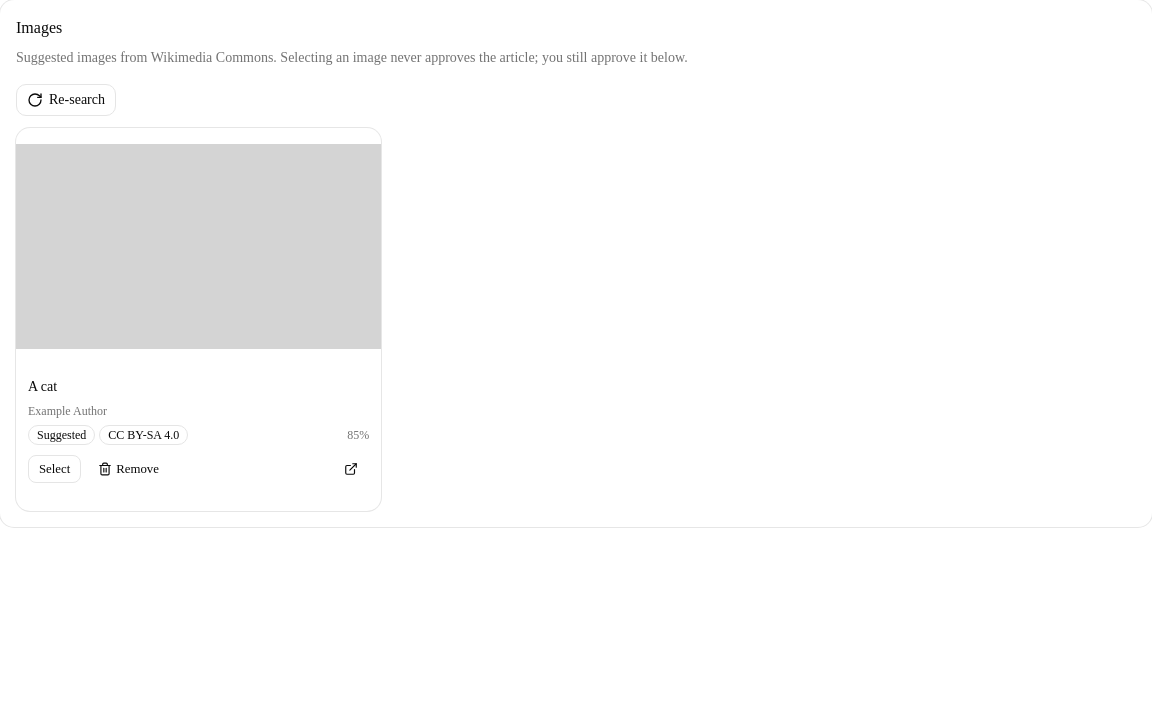
Test: ArticleImagesPanel actions › selects a suggested image and refetches
The width and height of the screenshot is (1152, 720).
Click the button "Select" at (55, 470), box [28,456,81,484]
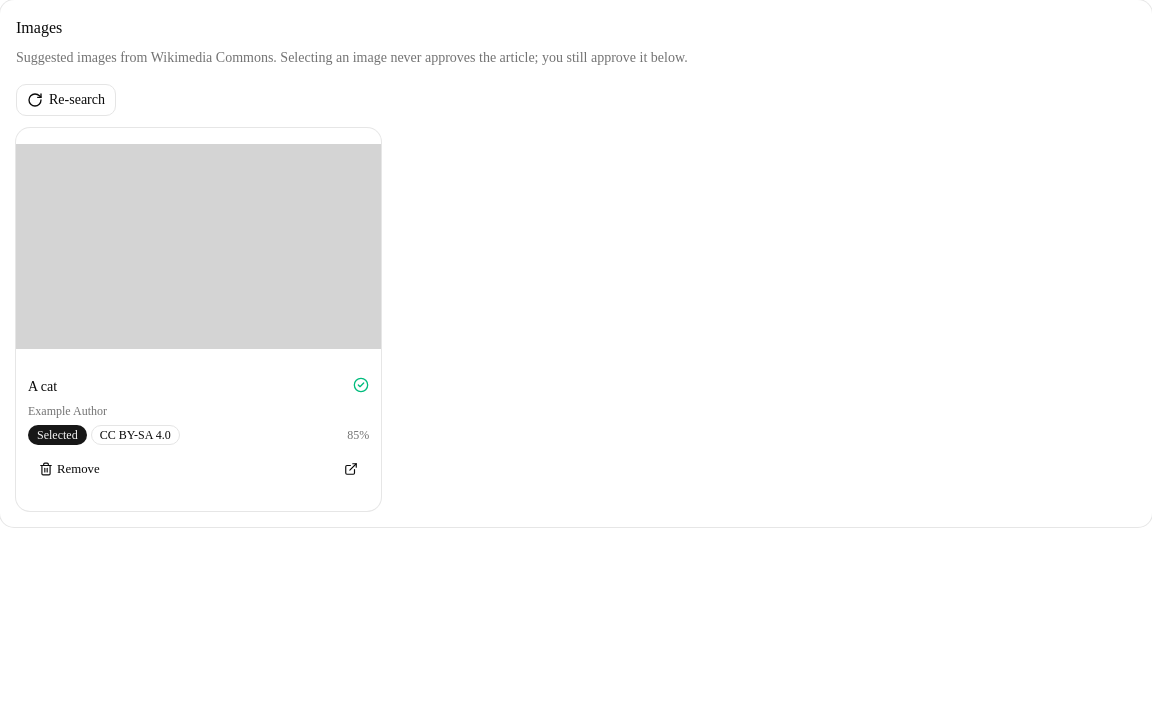
Expected: the icon with test id "selected-check" is shown, [353,378,369,394]
